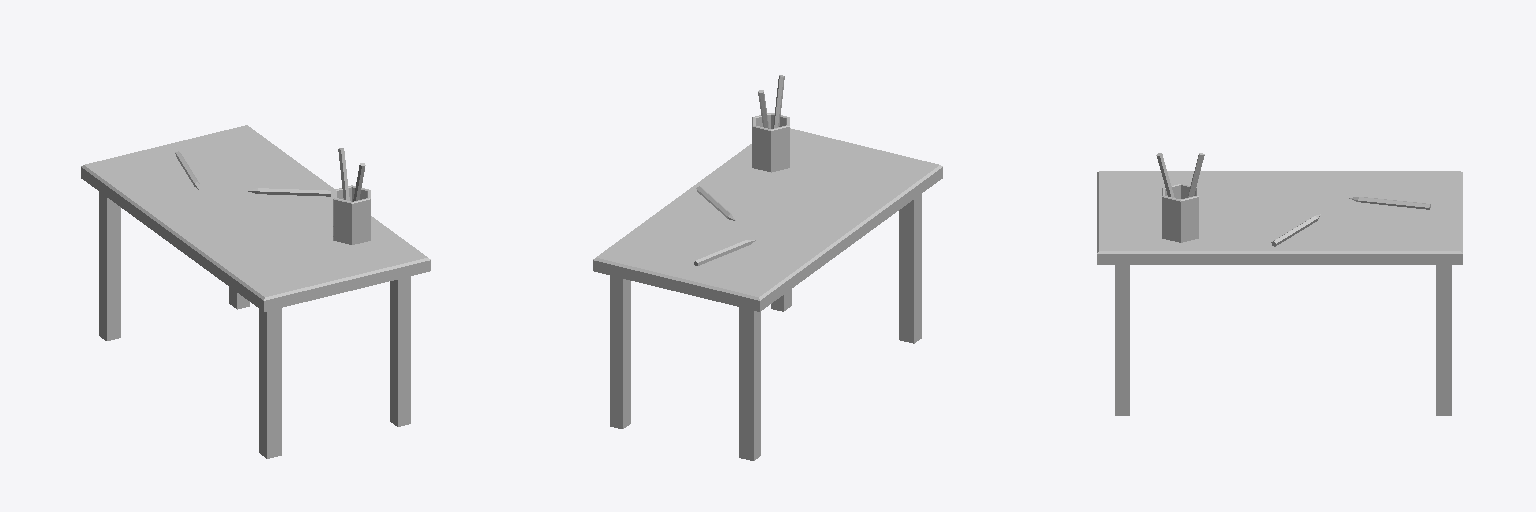
The model's file is kidstable.obj.
3 renders of one model, left to right at view 1: azimuth 30°, elevation 25°; view 2: azimuth 150°, elevation 25°; view 3: azimuth 270°, elevation 25°, orthographic.
Visible parts, largest first — view 1: pCube14, pencilholder; view 2: pCube14, pencilholder; view 3: pCube14, pencilholder.
Part boxes in pixels (bbox=[...]): pCube14: bbox=[81, 125, 430, 458]; pencilholder: bbox=[333, 185, 370, 244]; pCube14: bbox=[593, 128, 942, 460]; pencilholder: bbox=[752, 113, 789, 172]; pCube14: bbox=[1097, 171, 1462, 415]; pencilholder: bbox=[1162, 183, 1198, 242].
Bounding box in the file's own units: 1.4 × 2 × 2.66.